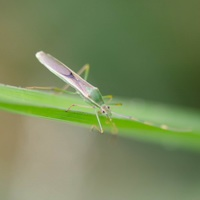insect: (36, 51, 185, 131)
